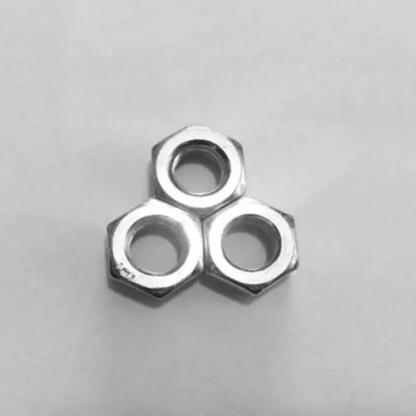FOD: (86, 110, 320, 313)
